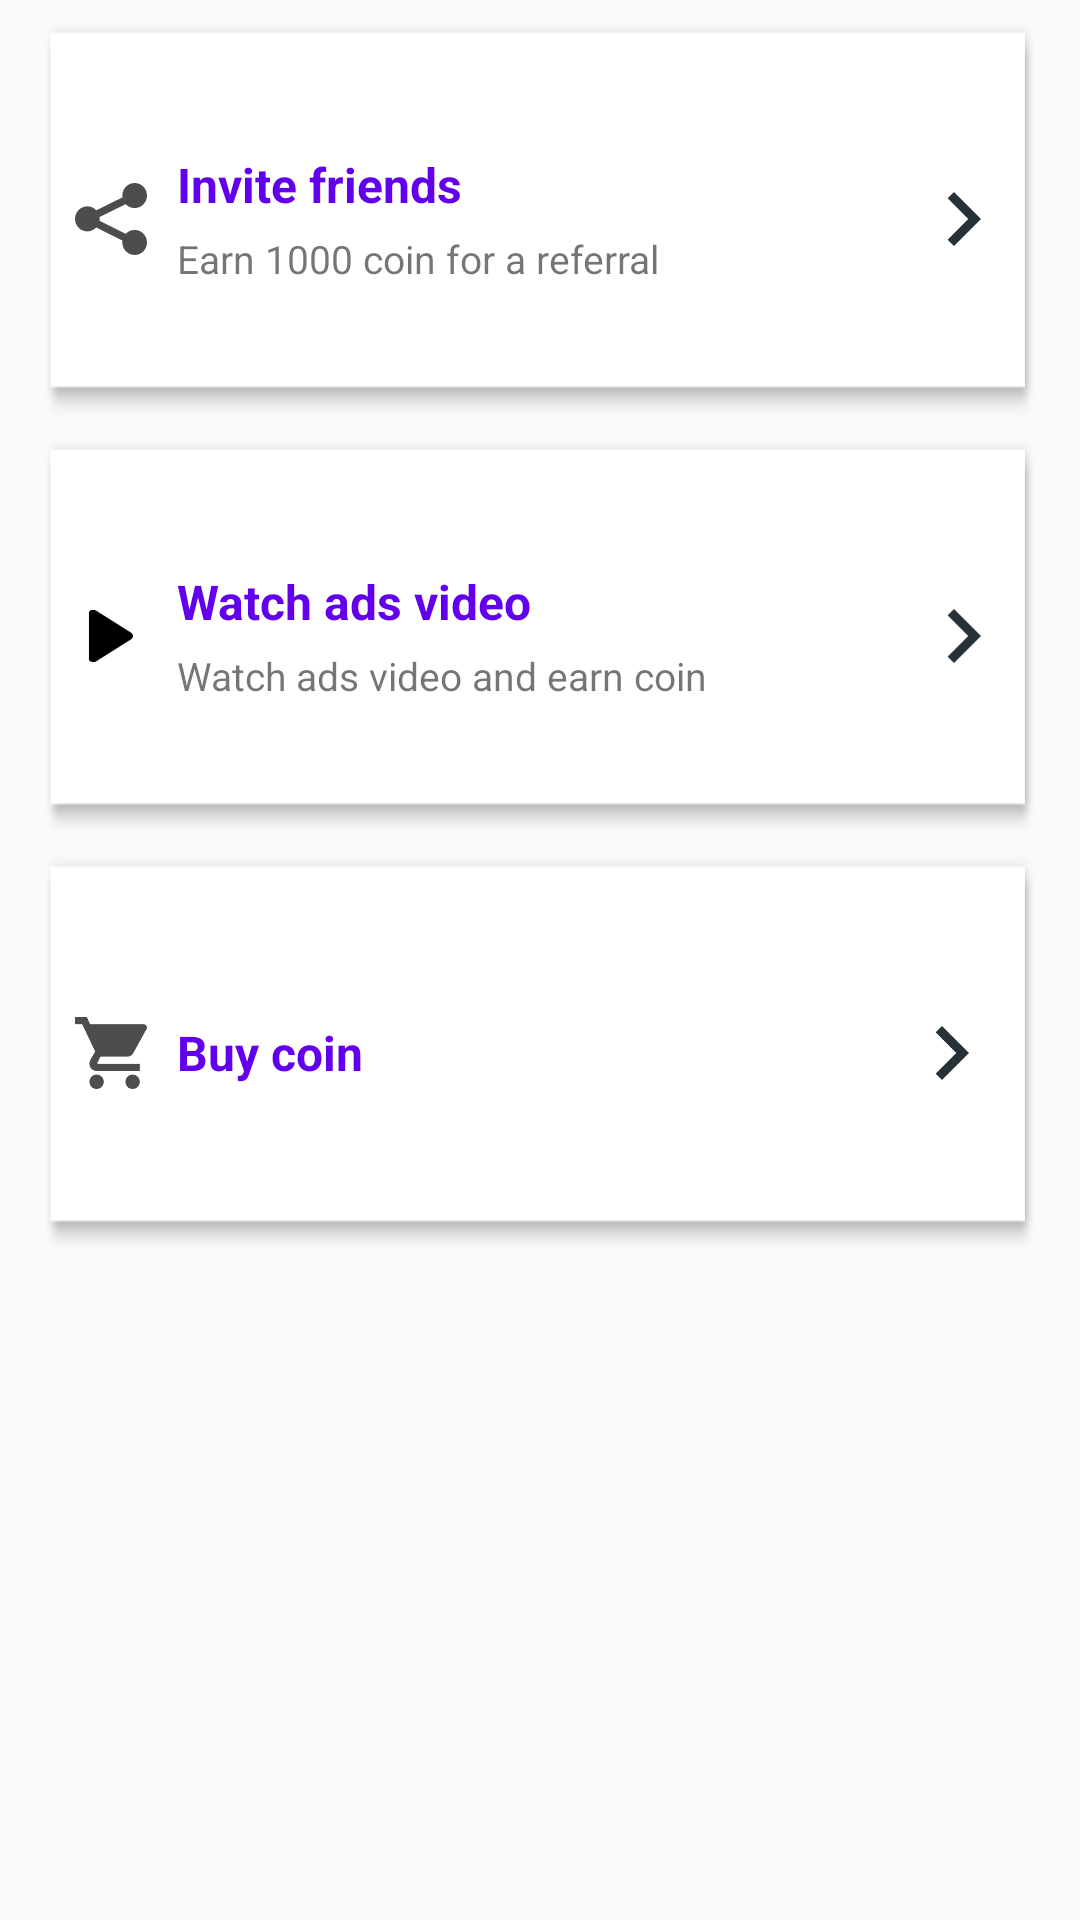

Screen size 1080 x 1920. Icon name, then its box in pixels as (x1, y1, x2, y2):
next: (947, 192, 981, 246), (947, 609, 981, 663), (936, 1026, 969, 1080)
play: (89, 610, 133, 662)
share: (75, 183, 147, 255)
shopping cart: (75, 1017, 147, 1089)
